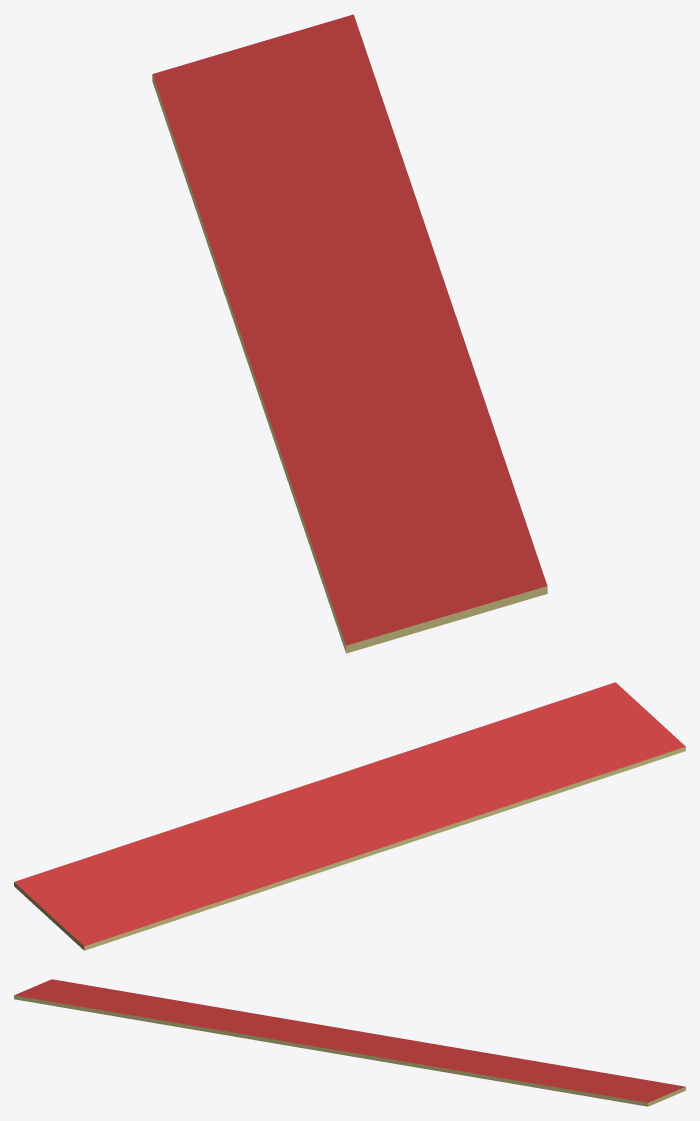
3 views of the same model, one above another, from view 1: azimuth 30°, elevation 25°; view 2: azimuth 150°, elevation 25°; view 3: azimuth 270°, elevation 25° (orthographic). The views are drawn at different scales.
Size of the model in its own units: 8 by 15.42 by 0.702.
